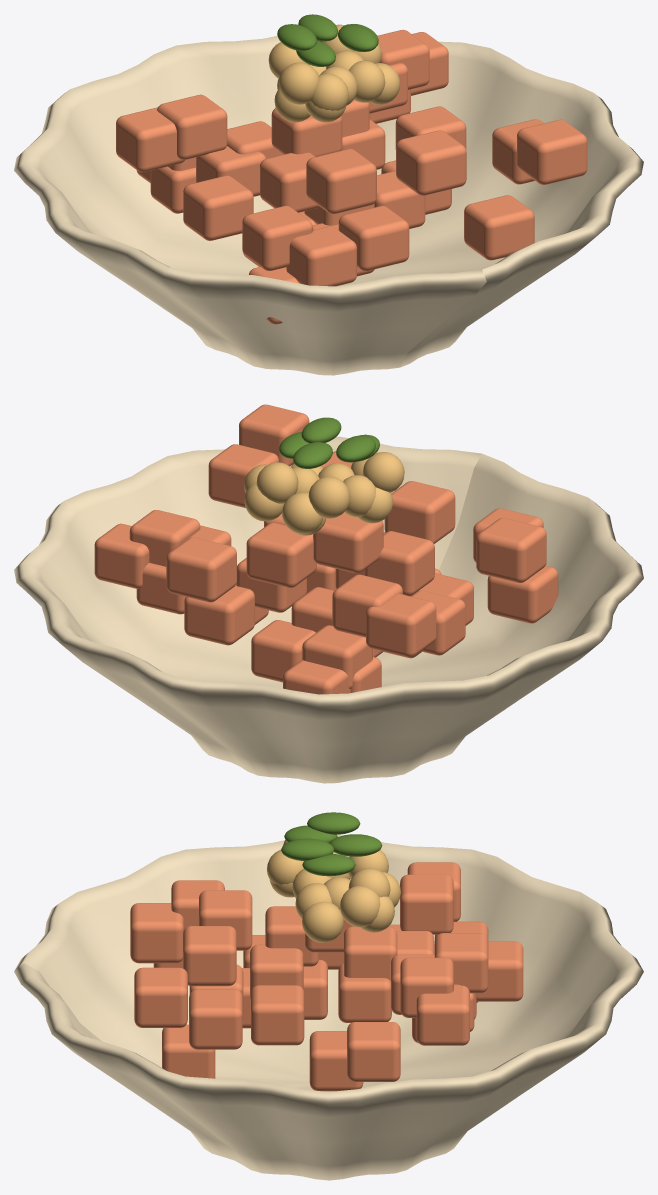
Rendered from 46-tartare.glb.
3 renders of one model, top to bottom at view 1: azimuth 30°, elevation 25°; view 2: azimuth 150°, elevation 25°; view 3: azimuth 270°, elevation 25°, orthographic.
Parts seen in each view (by area): view 1: 연어 타르타르; view 2: 연어 타르타르; view 3: 연어 타르타르.
Boxes of the visible parts, x1=… form: 연어 타르타르: x1=14, y1=14, x2=643, y2=375; 연어 타르타르: x1=14, y1=404, x2=643, y2=783; 연어 타르타르: x1=14, y1=812, x2=643, y2=1180.
Size of the model in its own units: 1.65 by 0.841 by 1.65.
